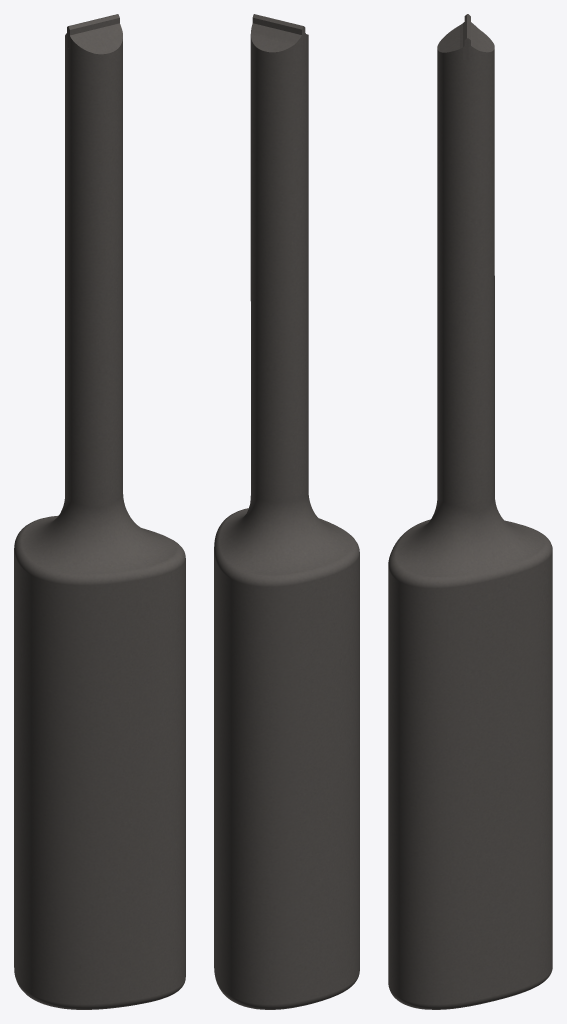
The model's file is flathead.glb.
The picture shows the model from 3 angles, left to right: view 1: azimuth 30°, elevation 25°; view 2: azimuth 150°, elevation 25°; view 3: azimuth 270°, elevation 25°; orthographic projection.
Bounding box in the file's own units: 0.0334 × 0.22 × 0.0344.
Materials: 1 (1 with a texture image).
